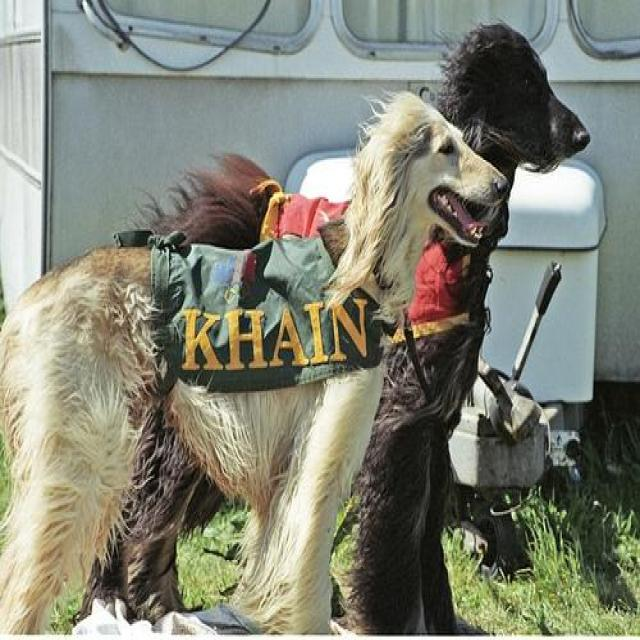afghan_hound: (73, 20, 591, 638), (1, 92, 507, 638)
